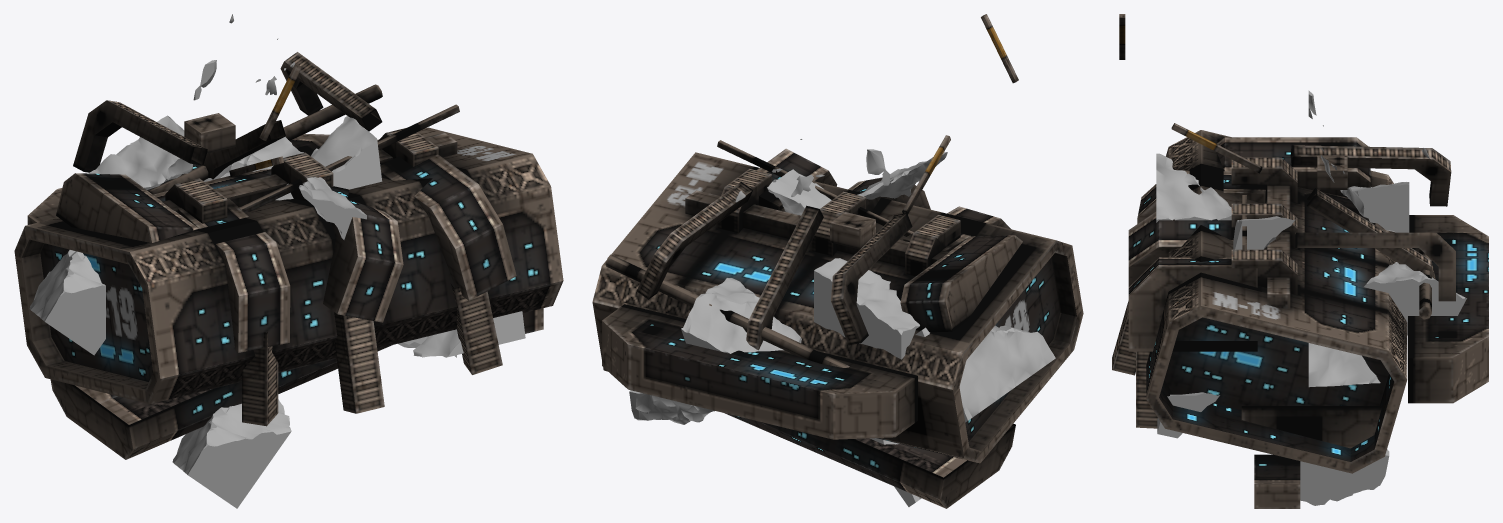
The model's file is SpaceStationDestroyed.fbx.
The picture shows the model from 3 angles, left to right: view 1: azimuth 30°, elevation 25°; view 2: azimuth 150°, elevation 25°; view 3: azimuth 270°, elevation 25°; orthographic projection. The views are drawn at different scales.
Parts seen in each view (by area): view 1: polySurface1, polySurface5, polySurface2, polySurface16, polySurface20, shard17, polySurface8, shard1, polySurface18, polySurface23, shard2, polySurface7 (+16 smaller); view 2: polySurface1, polySurface4, polySurface2, polySurface8, shard1, shard4, shard5, polySurface18, polySurface22, polySurface7, polySurface13, polySurface12 (+13 smaller); view 3: polySurface1, polySurface4, polySurface5, polySurface2, polySurface18, polySurface7, polySurface8, shard7, polySurface20, shard15, shard5, polySurface3 (+15 smaller).
Boxes of the visible parts, x1,y1,x2,y2 form: polySurface1: (14, 127, 563, 404); polySurface5: (380, 154, 516, 300); polySurface2: (50, 345, 392, 459); polySurface16: (177, 198, 290, 352); polySurface20: (290, 186, 403, 322); shard17: (172, 389, 291, 508); polySurface8: (56, 173, 198, 242); shard1: (29, 250, 105, 355); polySurface18: (73, 100, 207, 172); polySurface23: (334, 312, 384, 413); shard2: (275, 116, 382, 200); polySurface7: (280, 52, 382, 131); polySurface1: (592, 152, 1083, 463); polySurface4: (602, 304, 917, 439); polySurface2: (725, 413, 1015, 508); polySurface8: (900, 235, 1022, 332); shard1: (915, 325, 1055, 422); shard4: (814, 258, 919, 359); shard5: (681, 278, 801, 353); polySurface18: (831, 213, 912, 345); polySurface22: (746, 205, 823, 350); polySurface7: (636, 182, 752, 299); polySurface13: (685, 190, 949, 266); polySurface12: (605, 254, 849, 367); polySurface1: (1146, 130, 1407, 473); polySurface4: (1408, 215, 1488, 403); polySurface5: (1128, 257, 1257, 351); polySurface2: (1241, 406, 1382, 448); polySurface18: (1290, 145, 1451, 206); polySurface7: (1295, 232, 1455, 301); polySurface8: (1216, 137, 1370, 197); shard7: (1156, 153, 1231, 222); polySurface20: (1128, 211, 1234, 286); shard15: (1300, 449, 1389, 505); shard5: (1364, 262, 1466, 335); polySurface3: (1254, 454, 1300, 508).
Bounding box in the file's own units: 3294 × 3064 × 2473.
